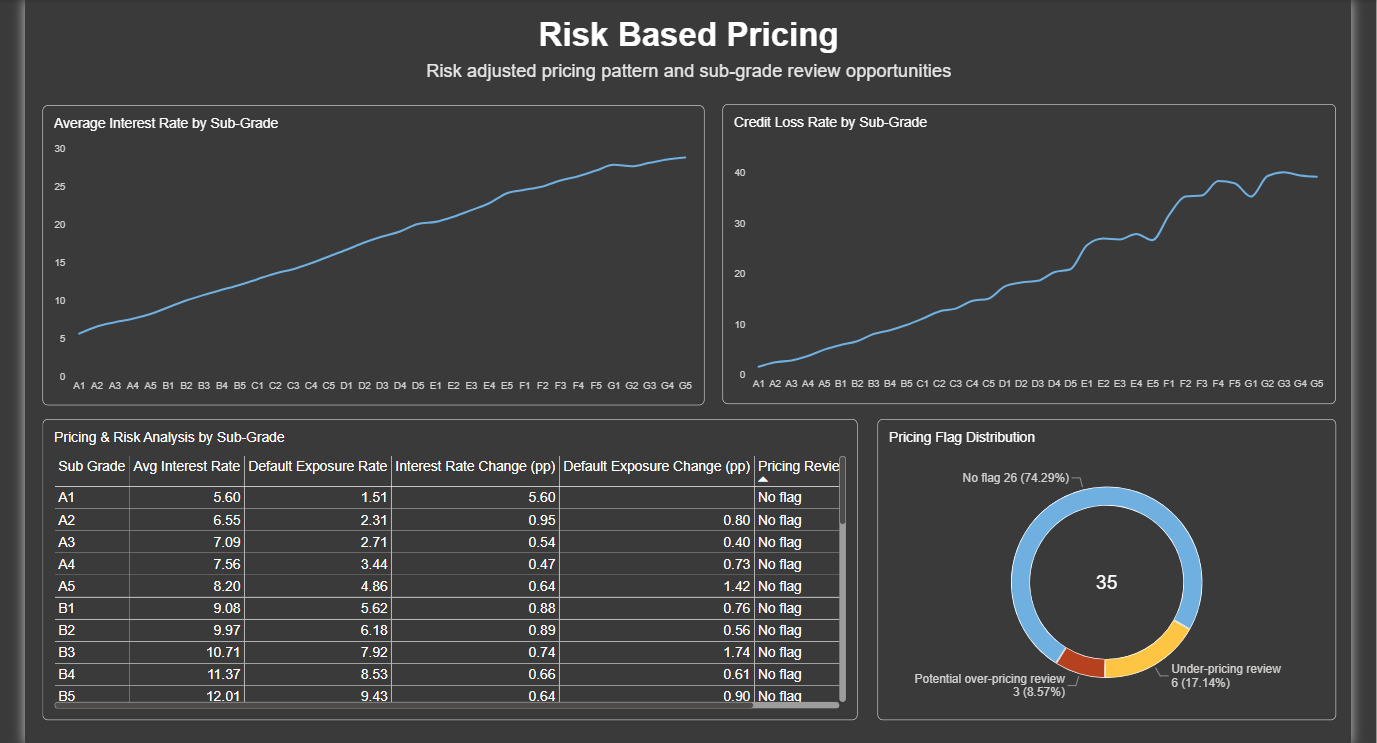

What the dashboard file says about the page in this screenshot:
{"tool":"powerbi","page":{"name":"Risk Based Pricing","canvas":[1920,1080],"ordinal":2},"visuals":[{"type":"lineChart","title":"Average Interest Rate by Sub-Grade","fields":{"Category":["Pricing Differenciation by Sub grade.sub_grade"],"Y":["Avg(Pricing Differenciation by Sub grade.average_interest_rate)"]},"box":[26,154,958,434],"z":0},{"type":"lineChart","title":"Credit Loss Rate by Sub-Grade","fields":{"Category":["Pricing Differenciation by Sub grade.sub_grade"],"Y":["Sum(Pricing Differenciation by Sub grade.credit_loss_rate)"]},"box":[1010,152,888,434],"z":1000},{"type":"tableEx","title":"Pricing & Risk Analysis by Sub-Grade ","fields":{"Values":["Pricing Alignment Flags.sub_grade","Pricing Alignment Flags.average_interest_rate","Sum(Pricing Alignment Flags.default_exposure_rate)","Sum(Pricing Alignment Flags.interest_rate_change)","Sum(Pricing Alignment Flags.default_exposure_change)","Pricing Alignment Flags.pricing_flag"]},"box":[26,608,1180,436],"z":2000},{"type":"donutChart","title":"Pricing Flag Distribution","fields":{"Category":["Pricing Alignment Flags.pricing_flag"],"Y":["CountNonNull(Pricing Alignment Flags.sub_grade)"]},"box":[1234,608,664,436],"z":3000},{"type":"textbox","box":[410,24,1100,64],"z":4000},{"type":"textbox","box":[410,88,1100.3,47.1],"z":5000}]}

Visuals, with their boxes on the page's 1920x1080 design canvas (x1, y1, x2, y2). These are canvas units, not pixel positions in the 1377x743 screenshot, which may show the page scaled, cropped or inside an application window:
"Average Interest Rate by Sub-Grade" lineChart: 26/154/984/588
"Credit Loss Rate by Sub-Grade" lineChart: 1010/152/1898/586
"Pricing & Risk Analysis by Sub-Grade " tableEx: 26/608/1206/1044
"Pricing Flag Distribution" donutChart: 1234/608/1898/1044
textbox: 410/24/1510/88
textbox: 410/88/1510/135
